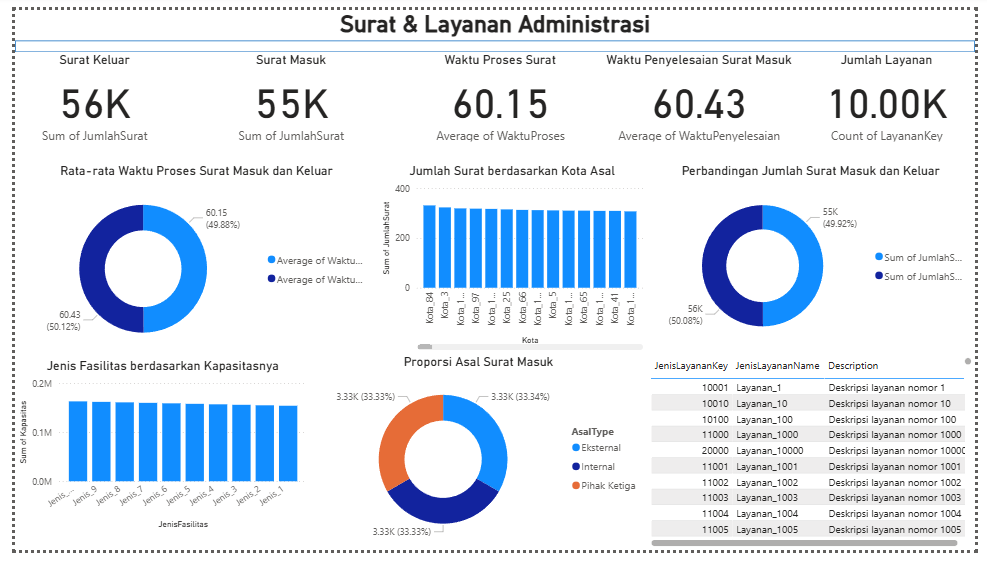

Layout of this report page (visuals, bound fields, positions):
{"tool":"powerbi","page":{"name":"Page 1","canvas":[1280,720],"ordinal":0},"visuals":[{"type":"card","title":"Surat Keluar","fields":{"Values":["Sum(Fact_SuratKeluar.JumlahSurat)"]},"box":[0,56,212,124],"z":0},{"type":"card","title":"Surat Masuk","fields":{"Values":["Sum(Fact_SuratMasuk.JumlahSurat)"]},"box":[212,56,312,124],"z":1000},{"type":"card","title":"Waktu Penyelesaian Surat Masuk","fields":{"Values":["Avg(Fact_SuratKeluar.WaktuPenyelesaian)"]},"box":[780,56,264,124],"z":2000},{"type":"columnChart","title":"Jenis Fasilitas berdasarkan Kapasitasnya","fields":{"Category":["DimFasilitas.JenisFasilitas"],"Y":["Sum(DimFasilitas.Kapasitas)"]},"box":[0,464,394,232],"z":3000},{"type":"columnChart","title":"Jumlah Surat berdasarkan Kota Asal","fields":{"Category":["DimTujuanSurat.Kota"],"Y":["Sum(Fact_SuratKeluar.JumlahSurat)"]},"box":[484,204,358,254],"z":4000},{"type":"card","title":"Jumlah Layanan","fields":{"Values":["CountNonNull(Fact_LayananAdministrasi.LayananKey)"]},"box":[1044,56,236,124],"z":5000},{"type":"donutChart","title":"Proporsi Asal Surat Masuk","fields":{"Y":["CountNonNull(DimAsalSurat.AsalType)"],"Category":["DimAsalSurat.AsalType"]},"box":[394,458,448,262],"z":6000},{"type":"shape","title":"Surat & Layanan Administrasi","box":[0,0,1280,56],"z":7000},{"type":"card","title":"Waktu Proses Surat","fields":{"Values":["Avg(Fact_SuratMasuk.WaktuProses)"]},"box":[524,56,246,124],"z":8000},{"type":"tableEx","fields":{"Values":["DimAsalSurat.AsalType","Sum(Fact_SuratMasuk.WaktuProses)"]},"box":[858,458,422,262],"z":8001},{"type":"donutChart","title":"Perbandingan Jumlah Surat Masuk dan Keluar","fields":{"Y":["Sum(Fact_SuratMasuk.JumlahSurat)","Sum(Fact_SuratKeluar.JumlahSurat)"]},"box":[842,204,438,254],"z":8002},{"type":"donutChart","title":"Rata-rata Waktu Proses Surat Masuk dan Keluar","fields":{"Y":["Avg(Fact_SuratMasuk.WaktuProses)","Avg(Fact_SuratKeluar.WaktuPenyelesaian)"]},"box":[0,204,484,262],"z":8003},{"type":"tableEx","fields":{"Values":["DimJenisLayanan.JenisLayananKey","DimJenisLayanan.JenisLayananName","DimJenisLayanan.Description"]},"box":[842,458,438,262],"z":8004}]}

Visuals, with their boxes in screenshot pixels (x1, y1, x2, y2), scaled from the page's 1280x720 canvas onto the 987x565 screenshot:
"Surat Keluar" card: [left=0, top=44, right=163, bottom=141]
"Surat Masuk" card: [left=163, top=44, right=404, bottom=141]
"Waktu Penyelesaian Surat Masuk" card: [left=601, top=44, right=805, bottom=141]
"Jenis Fasilitas berdasarkan Kapasitasnya" columnChart: [left=0, top=364, right=304, bottom=546]
"Jumlah Surat berdasarkan Kota Asal" columnChart: [left=373, top=160, right=649, bottom=359]
"Jumlah Layanan" card: [left=805, top=44, right=986, bottom=141]
"Proporsi Asal Surat Masuk" donutChart: [left=304, top=359, right=649, bottom=564]
"Surat & Layanan Administrasi" shape: [left=0, top=0, right=986, bottom=44]
"Waktu Proses Surat" card: [left=404, top=44, right=594, bottom=141]
tableEx - DimAsalSurat.AsalType x Sum(Fact_SuratMasuk.WaktuProses): [left=662, top=359, right=986, bottom=564]
"Perbandingan Jumlah Surat Masuk dan Keluar" donutChart: [left=649, top=160, right=986, bottom=359]
"Rata-rata Waktu Proses Surat Masuk dan Keluar" donutChart: [left=0, top=160, right=373, bottom=366]
tableEx - DimJenisLayanan.JenisLayananKey x DimJenisLayanan.JenisLayananName: [left=649, top=359, right=986, bottom=564]
